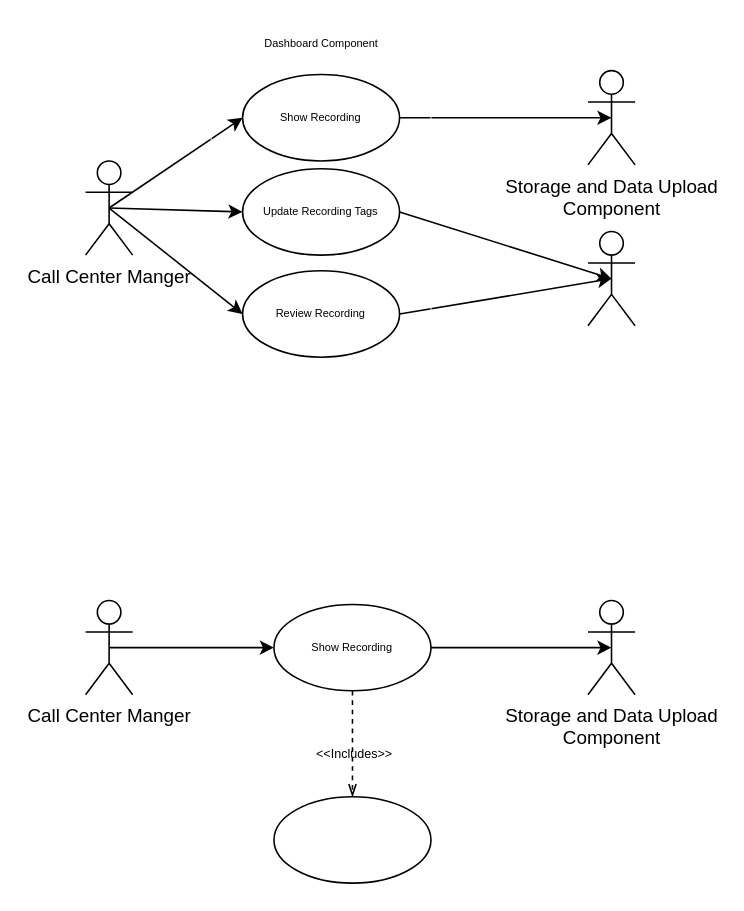
Some shapes in this 744 by 911 pixel diagram are drawn without their labels. The centre of each missing label's shape, as x and y in pixels:
Amazon Dynamo DB: (610,278)
Retrive Recording: (351,839)
